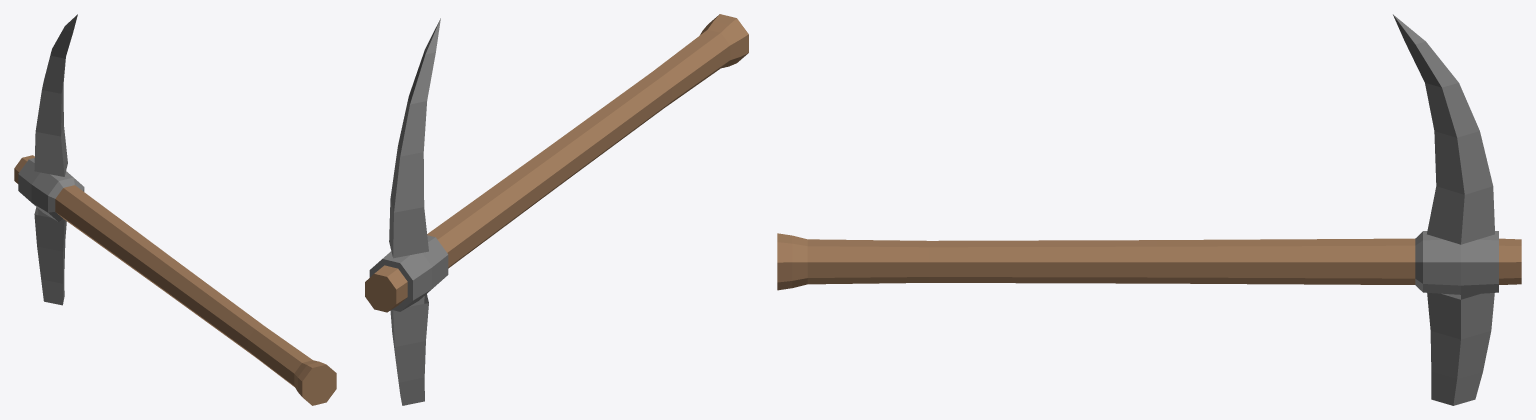
Rendered from pickaxe.fbx.
The picture shows the model from 3 angles, left to right: view 1: azimuth 30°, elevation 25°; view 2: azimuth 150°, elevation 25°; view 3: azimuth 270°, elevation 25°; orthographic projection. The views are drawn at different scales.
Visible parts, largest first — view 1: pickaxe; view 2: pickaxe; view 3: pickaxe.
Part boxes in pixels (left/top/right/bottom): pickaxe: left=14, top=14, right=336, bottom=405; pickaxe: left=365, top=14, right=748, bottom=405; pickaxe: left=777, top=14, right=1521, bottom=405.
Bounding box in the file's own units: 0.1515 × 1.12 × 1.96.
